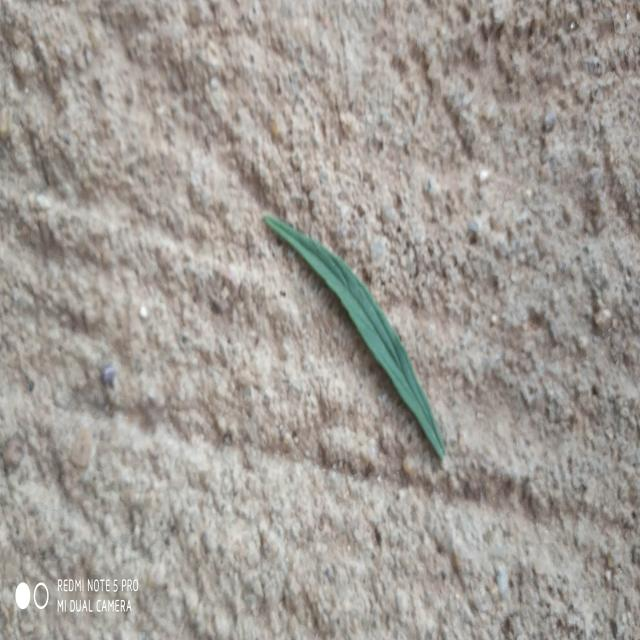thambe: (264, 216, 445, 460)
